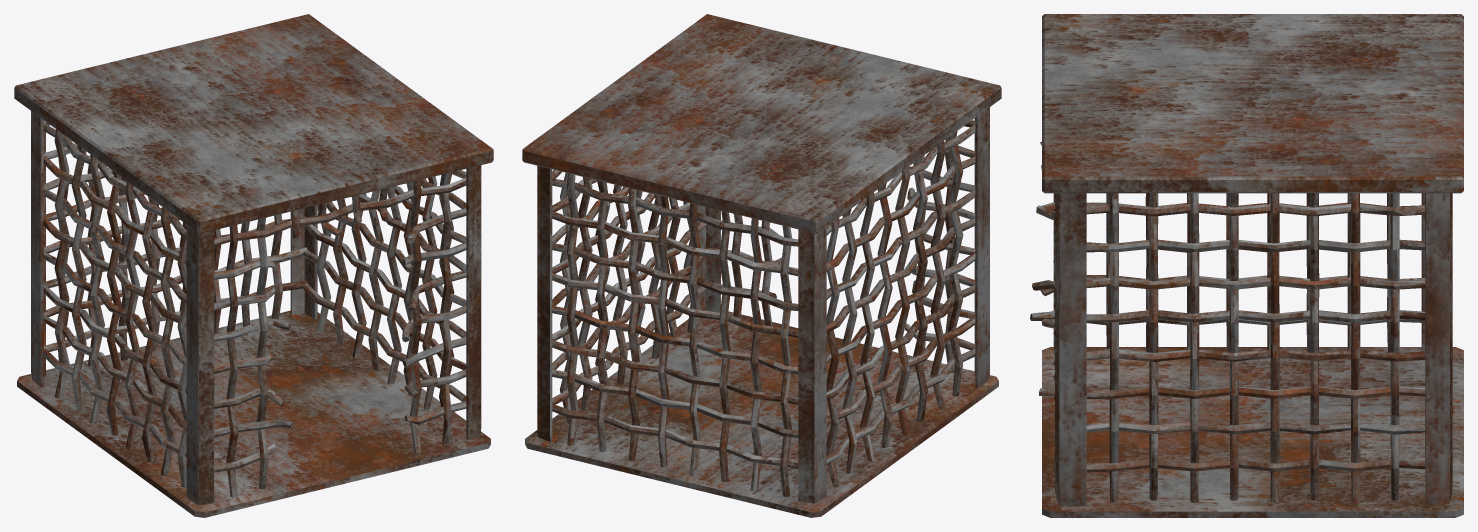
The model's file is jail.glb.
3 views of the same model, side by side, from view 1: azimuth 30°, elevation 25°; view 2: azimuth 150°, elevation 25°; view 3: azimuth 270°, elevation 25° (orthographic). The views are drawn at different scales.
Visible parts, largest first — view 1: letka_lp; view 2: letka_lp; view 3: letka_lp.
Part boxes in pixels (x1,y1,x2,y2): letka_lp: [14, 14, 493, 517]; letka_lp: [522, 14, 1001, 517]; letka_lp: [1030, 14, 1463, 517].
Size of the model in its own units: 96.31 by 93.27 by 107.
1 material, 1 textured.
